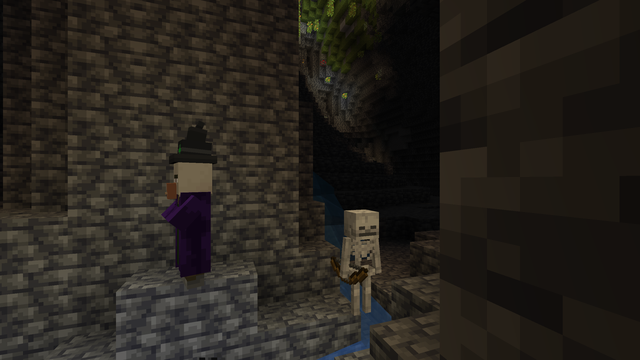sorcieres: (166, 156, 213, 292)
squelettes: (340, 209, 381, 322)
